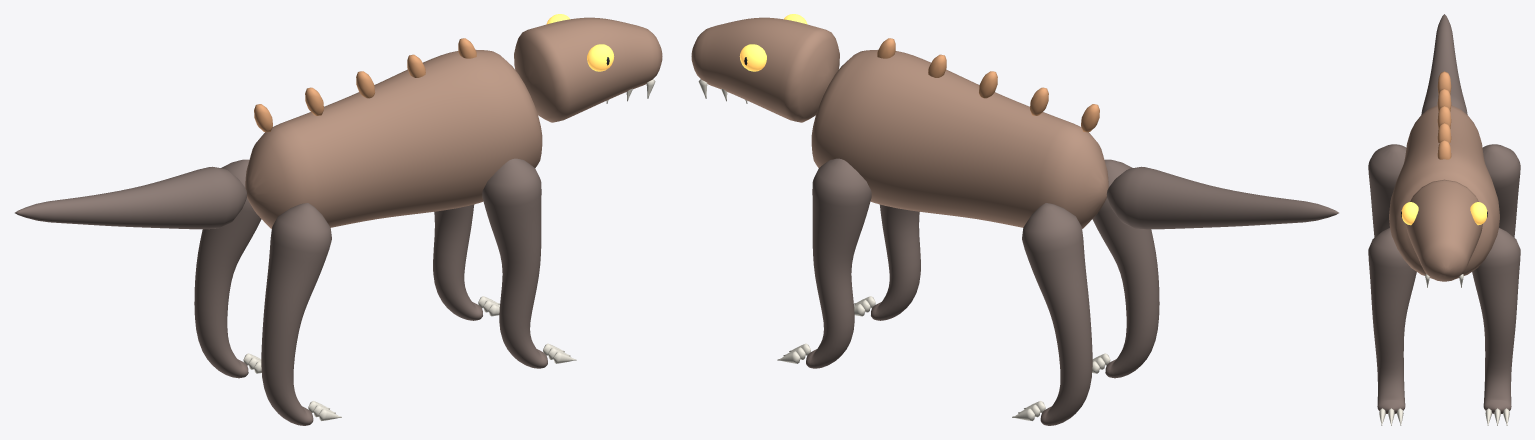
The model's file is triassic_hound.glb.
3 views of the same model, side by side, from view 1: azimuth 30°, elevation 25°; view 2: azimuth 150°, elevation 25°; view 3: azimuth 270°, elevation 25° (orthographic). The views are drawn at different scales.
Parts seen in each view (by area): view 1: Hound_Torso, Hound_Head, Leg3_Limb, Hound_Tail, Leg1_Limb, Leg2_Limb, Leg0_Limb; view 2: Hound_Torso, Hound_Head, Leg2_Limb, Hound_Tail, Leg0_Limb, Leg3_Limb, Leg1_Limb; view 3: Hound_Torso, Leg0_Limb, Leg1_Limb, Hound_Head, Leg2_Limb, Leg3_Limb, Hound_Tail, Eye_L, Eye_R, SpineRidge_0, SpineRidge_4, SpineRidge_3 (+2 smaller).
Boxes of the visible parts, x1,y1,x2,y2 form: Hound_Torso: (245, 49, 542, 228); Hound_Head: (514, 17, 662, 122); Leg3_Limb: (261, 203, 331, 425); Hound_Tail: (15, 166, 247, 229); Leg1_Limb: (482, 158, 547, 368); Leg2_Limb: (194, 159, 261, 378); Leg0_Limb: (433, 204, 482, 320); Hound_Torso: (811, 49, 1108, 228); Hound_Head: (691, 17, 839, 122); Leg2_Limb: (1022, 203, 1092, 425); Hound_Tail: (1106, 166, 1338, 229); Leg0_Limb: (806, 158, 871, 368); Leg3_Limb: (1092, 159, 1159, 378); Leg1_Limb: (871, 204, 920, 320); Hound_Torso: (1389, 105, 1499, 278); Leg0_Limb: (1472, 228, 1520, 413); Leg1_Limb: (1368, 228, 1416, 413); Hound_Head: (1406, 179, 1482, 281); Leg2_Limb: (1482, 144, 1520, 237); Leg3_Limb: (1368, 144, 1406, 237); Hound_Tail: (1421, 14, 1467, 114); Eye_L: (1470, 202, 1487, 225); Eye_R: (1401, 202, 1418, 225); SpineRidge_0: (1437, 140, 1451, 159); SpineRidge_4: (1437, 71, 1451, 94); SpineRidge_3: (1437, 88, 1451, 111).
Bounding box in the file's own units: 2.53 × 1.17 × 0.6304.
